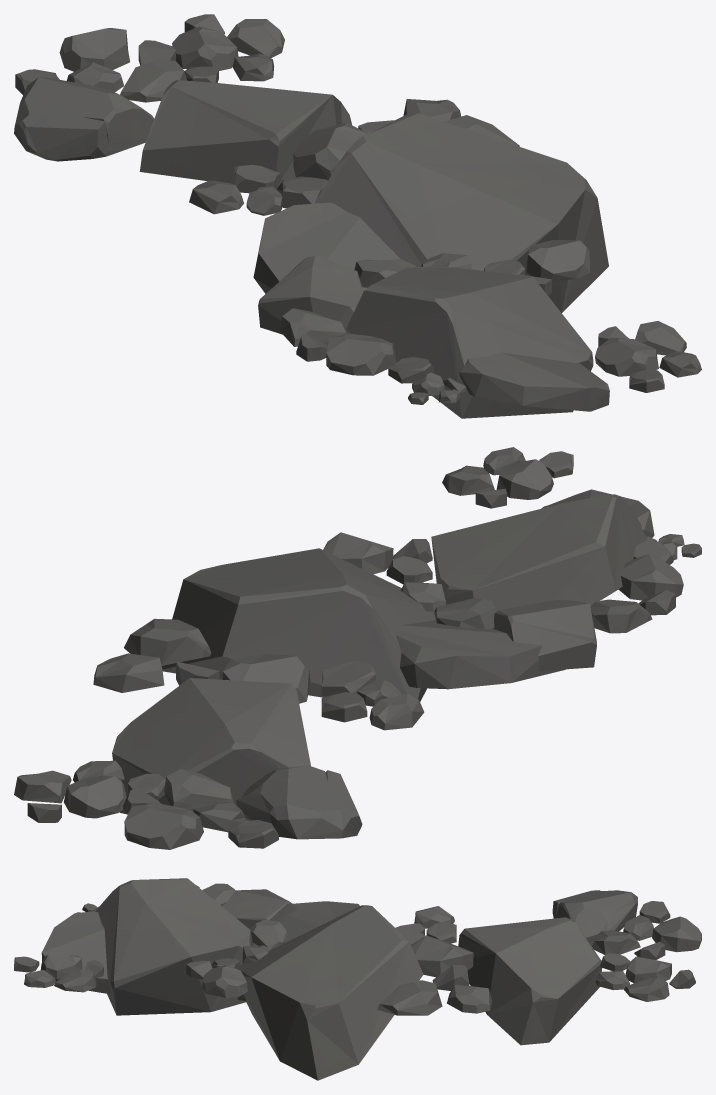
Rendered from Rock_Debris_01.fbx.
3 views of the same model, one above another, from view 1: azimuth 30°, elevation 25°; view 2: azimuth 150°, elevation 25°; view 3: azimuth 270°, elevation 25° (orthographic). The views are drawn at different scales.
Visible parts, largest first — view 1: SM_Rock_Debris_01.mo; view 2: SM_Rock_Debris_01.mo; view 3: SM_Rock_Debris_01.mo.
Boxes of the visible parts, bbox=[...] form: SM_Rock_Debris_01.mo: bbox=[14, 14, 701, 418]; SM_Rock_Debris_01.mo: bbox=[14, 447, 701, 849]; SM_Rock_Debris_01.mo: bbox=[14, 878, 701, 1080].
Bounding box in the file's own units: 256 × 97.25 × 547.
Materials: 1 (1 with a texture image).
